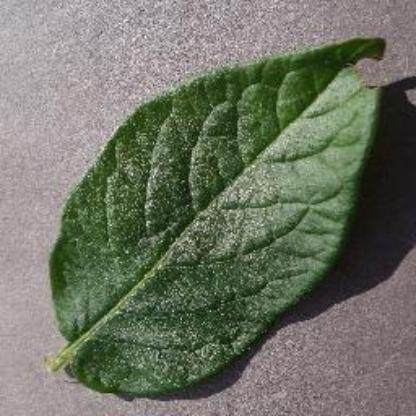Healthy-plant: (41, 32, 394, 402)
